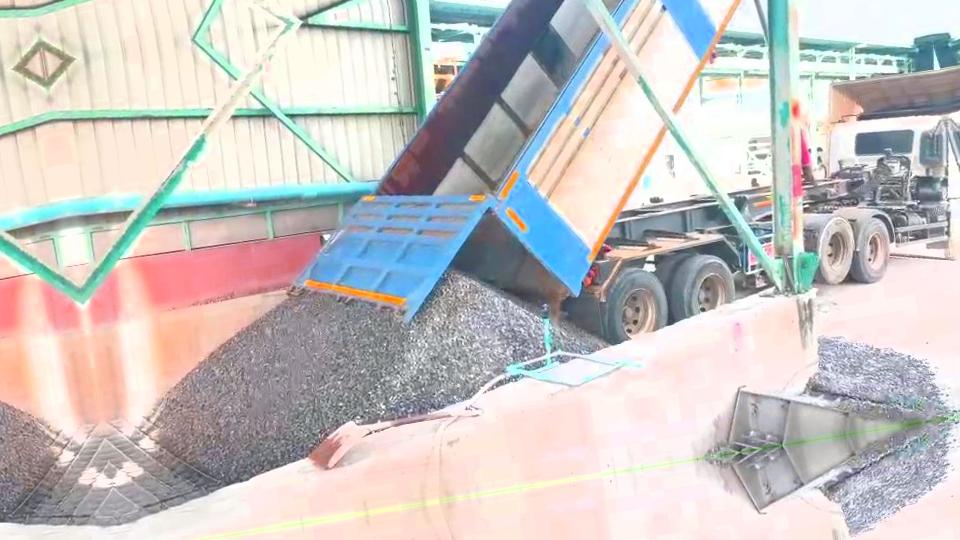gravel: (150, 271, 544, 483), (808, 337, 953, 418), (552, 322, 606, 353)
